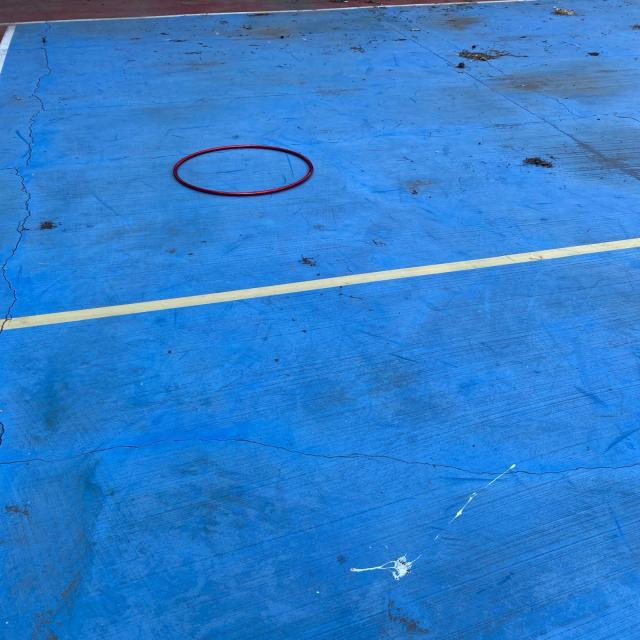Circle: (172, 144, 314, 196)
